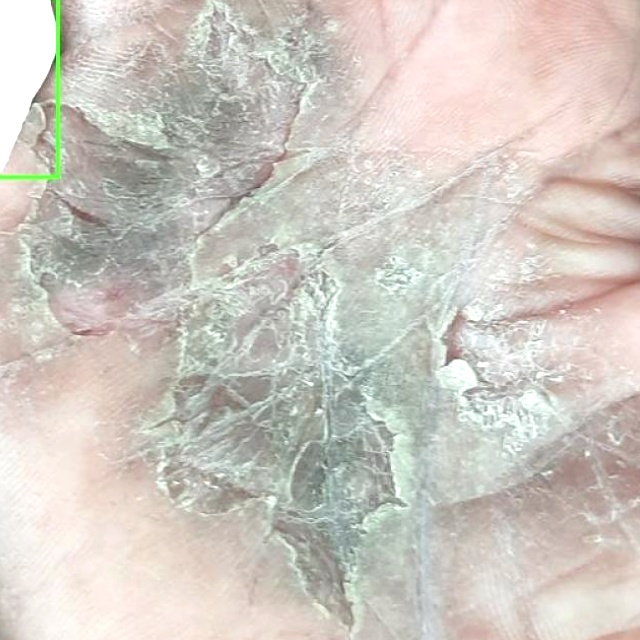Contact Dermatitis: (0, 0, 58, 176)
